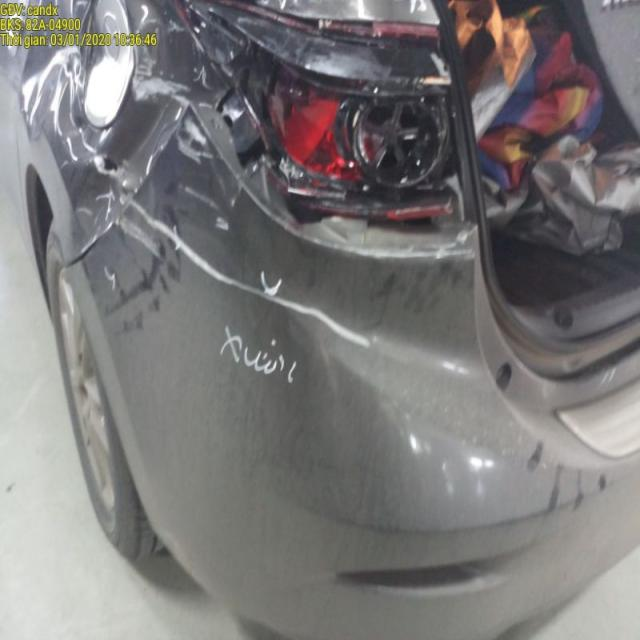Cabossage: (43, 0, 198, 171)
Dechirure: (55, 202, 142, 273)
Phare abime: (247, 46, 456, 226)
Rayure: (122, 194, 373, 356)
